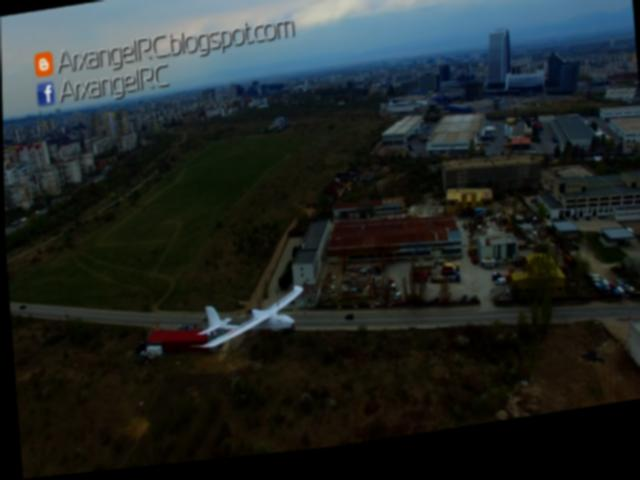plane: (195, 293, 306, 352)
